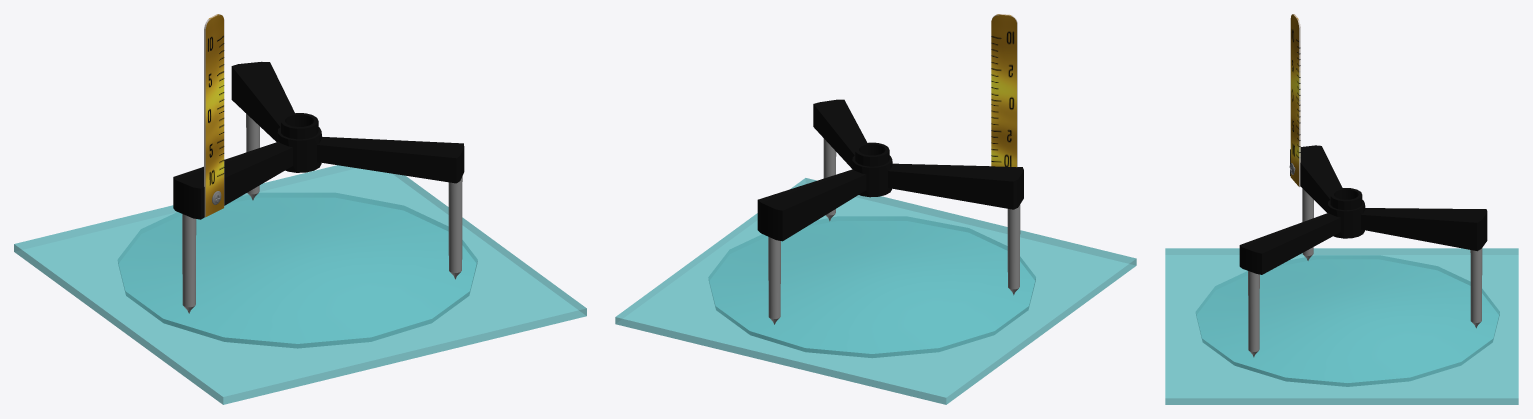
Rendered from Spherometer_main.obj.
3 views of the same model, side by side, from view 1: azimuth 30°, elevation 25°; view 2: azimuth 150°, elevation 25°; view 3: azimuth 270°, elevation 25° (orthographic). The views are drawn at different scales.
Parts seen in each view (by area): view 1: Box002_Mesh.001, Cylinder013_Mesh.007, Cylinder008_Mesh.002, Plane003_Mesh.009, Cylinder009_Mesh.003, Cylinder011_Mesh.005, Cylinder010_Mesh.004; view 2: Box002_Mesh.001, Cylinder013_Mesh.007, Cylinder008_Mesh.002, Plane003_Mesh.009, Cylinder011_Mesh.005, Cylinder010_Mesh.004, Cylinder009_Mesh.003; view 3: Box002_Mesh.001, Cylinder013_Mesh.007, Cylinder008_Mesh.002, Plane003_Mesh.009, Cylinder009_Mesh.003, Cylinder010_Mesh.004, Cylinder011_Mesh.005.
Boxes of the visible parts, x1,y1,x2,y2 form: Box002_Mesh.001: (14,165,586,404); Cylinder013_Mesh.007: (117,192,477,348); Cylinder008_Mesh.002: (173,61,464,219); Plane003_Mesh.009: (204,14,224,217); Cylinder009_Mesh.003: (448,176,462,279); Cylinder011_Mesh.005: (182,214,196,313); Cylinder010_Mesh.004: (246,113,259,200); Box002_Mesh.001: (615,178,1136,404); Cylinder013_Mesh.007: (708,216,1035,358); Cylinder008_Mesh.002: (757,99,1023,241); Plane003_Mesh.009: (991,14,1017,167); Cylinder011_Mesh.005: (1007,204,1020,295); Cylinder010_Mesh.004: (768,237,780,324); Cylinder009_Mesh.003: (823,138,836,221); Box002_Mesh.001: (1165,248,1518,404); Cylinder013_Mesh.007: (1195,255,1499,386); Cylinder008_Mesh.002: (1239,145,1487,274); Plane003_Mesh.009: (1290,14,1300,186); Cylinder009_Mesh.003: (1248,271,1259,357); Cylinder010_Mesh.004: (1470,248,1482,328); Cylinder011_Mesh.005: (1302,188,1313,260).
Size of the model in its own units: 1.13 by 0.9401 by 1.13.
5 materials, 1 textured.
